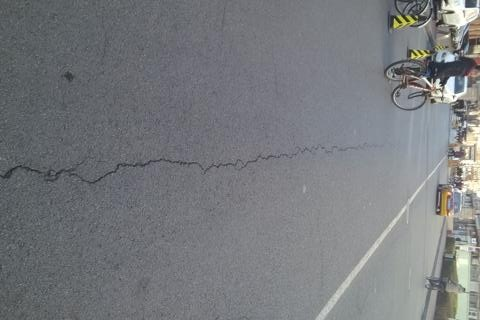A: (1, 139, 382, 193)
